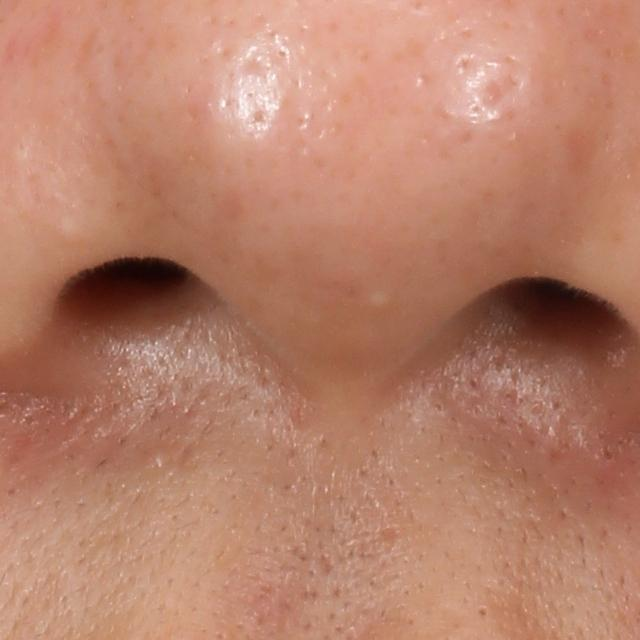atrophic_scar: (472, 67, 519, 117), (317, 550, 336, 578)
other: (359, 285, 401, 312)
